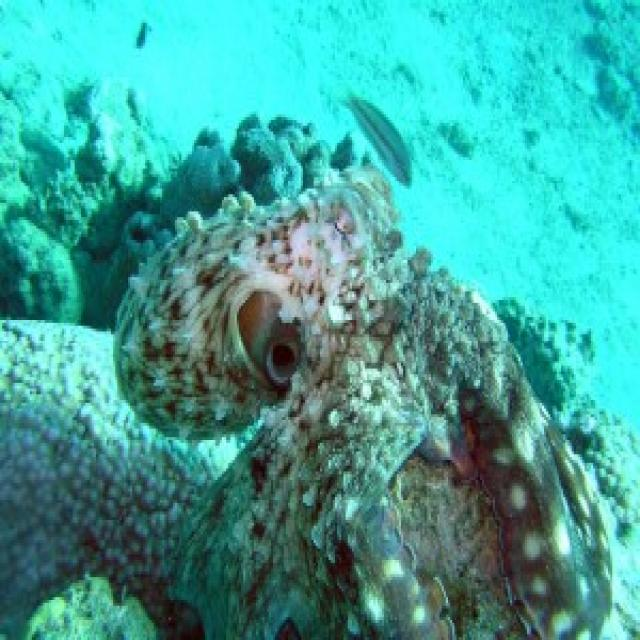Octo: (107, 175, 640, 640)
